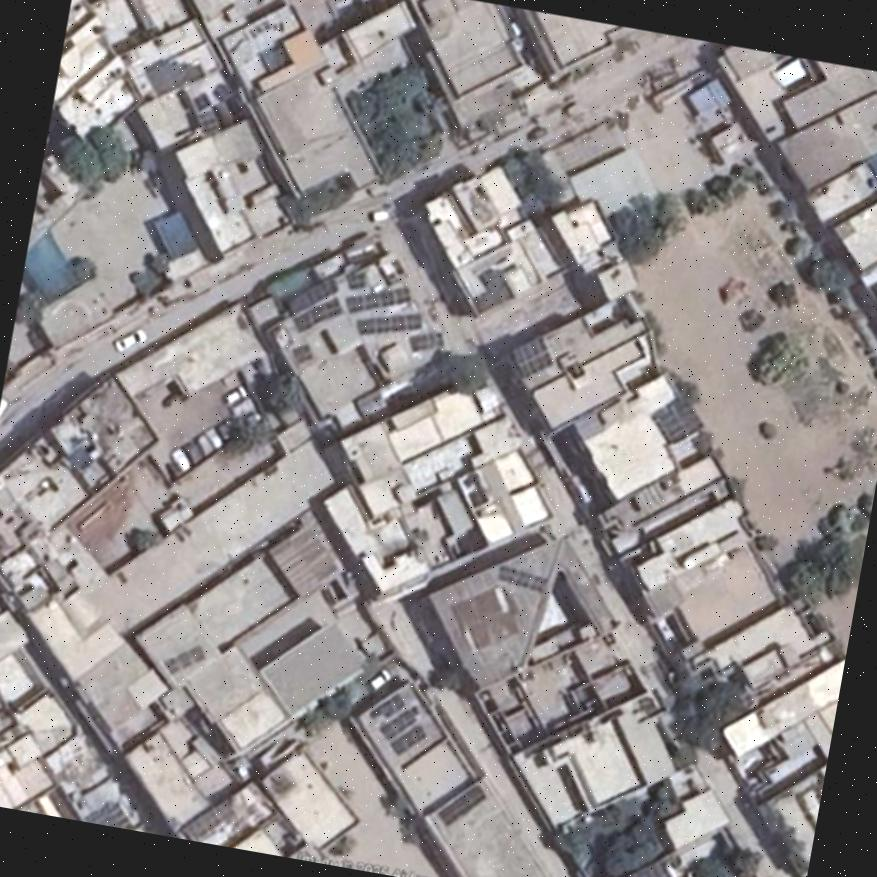Solarpanel: (653, 399, 700, 444), (441, 787, 487, 825), (347, 286, 408, 313), (514, 335, 551, 377), (293, 297, 339, 329), (357, 313, 421, 334), (497, 566, 548, 592), (84, 804, 132, 829), (381, 713, 415, 740), (394, 728, 422, 754)
